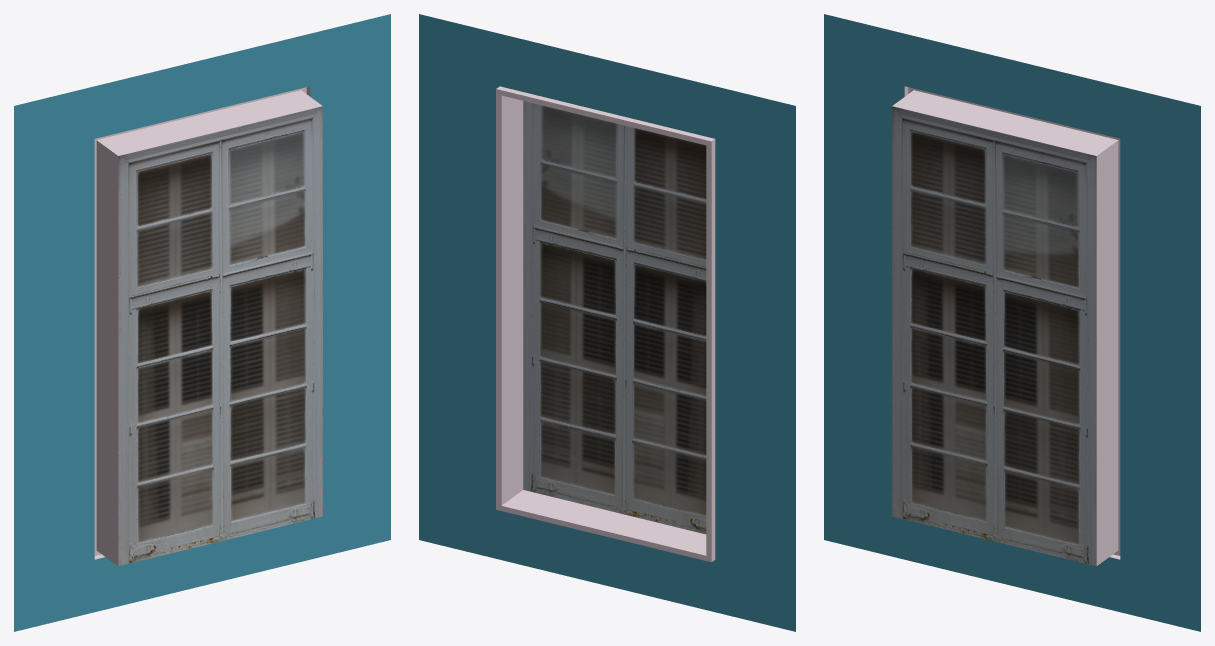
The model's file is FacadeFirstFloorA.FBX.
3 views of the same model, side by side, from view 1: azimuth 30°, elevation 25°; view 2: azimuth 150°, elevation 25°; view 3: azimuth 330°, elevation 25° (orthographic).
Parts seen in each view (by area): view 1: FacadeFirstFloorA_Wall, FacadeFirstFloorA_Window; view 2: FacadeFirstFloorA_Wall, FacadeFirstFloorA_Window; view 3: FacadeFirstFloorA_Wall, FacadeFirstFloorA_Window.
Boxes of the visible parts, x1,y1,x2,y2 form: FacadeFirstFloorA_Wall: [14, 14, 390, 631]; FacadeFirstFloorA_Window: [118, 106, 322, 566]; FacadeFirstFloorA_Wall: [419, 14, 795, 631]; FacadeFirstFloorA_Window: [523, 101, 706, 534]; FacadeFirstFloorA_Wall: [824, 14, 1200, 631]; FacadeFirstFloorA_Window: [892, 106, 1096, 566].
Bounding box in the file's own units: 300 × 400 × 30.
